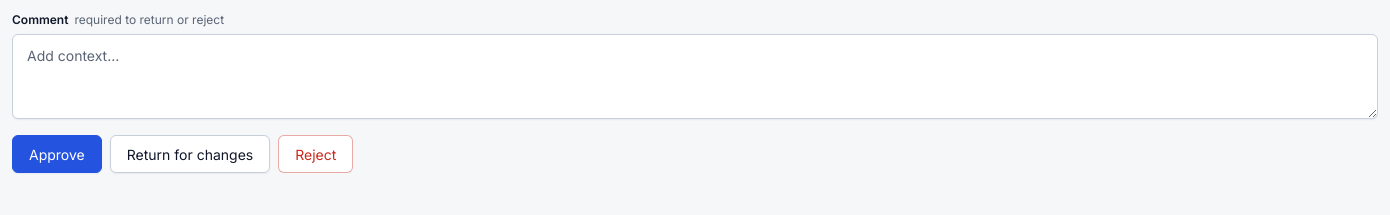
Test: DecisionPanel — the comment rule › refuses to reject without a comment, and says why
Click the button "Reject": x=316, y=154 x1=278 y1=135 x2=353 y2=173
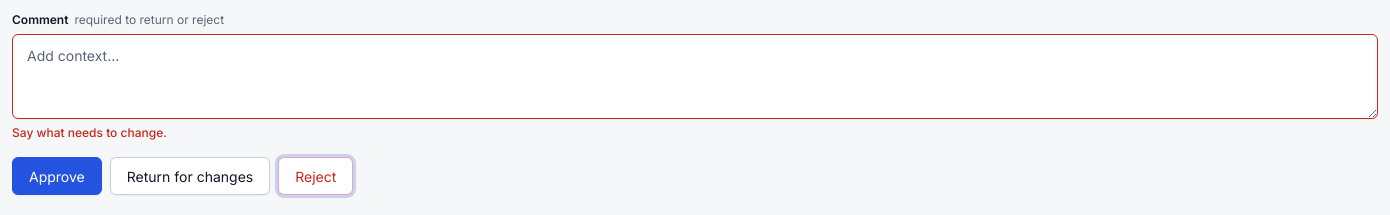
expect the message reads "Say what needs to change.": met, box x1=12 y1=125 x2=167 y2=140
